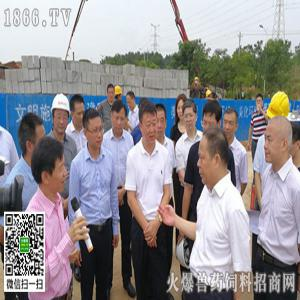none: (33, 139, 67, 196), (198, 129, 230, 185), (264, 118, 294, 170), (19, 113, 45, 161), (140, 102, 159, 146), (84, 109, 104, 150), (203, 102, 223, 131), (70, 94, 86, 129), (112, 100, 128, 134), (223, 110, 239, 141), (184, 101, 198, 132), (156, 105, 168, 140), (176, 93, 186, 124), (126, 90, 136, 111), (108, 84, 116, 103), (256, 95, 264, 111)
white: (52, 93, 70, 136)
yellow: (115, 85, 123, 101)
